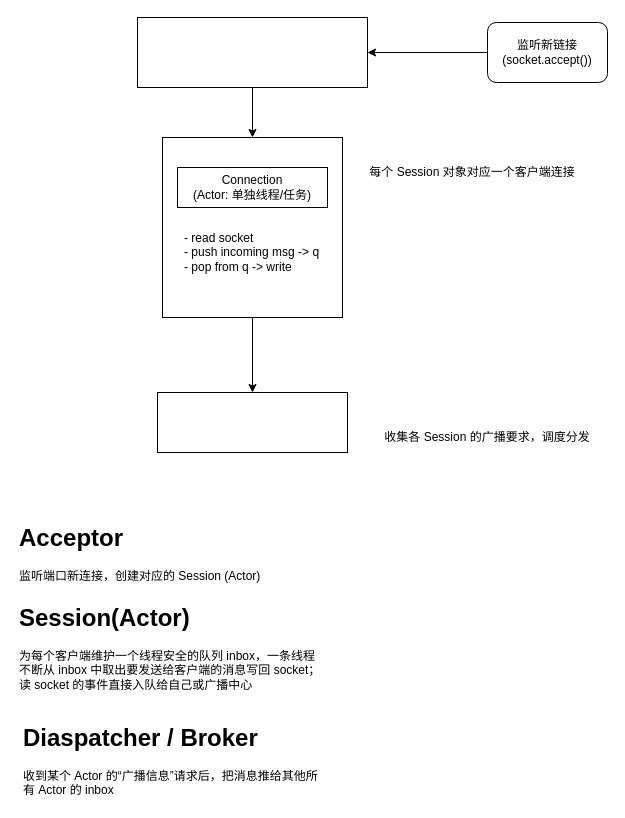
Image size: 625x818. Some labels were removed from this diagram. Each missing label, with the centre of its shape:
Acceptor Thread: the point at 252,52
Message Dispatcher: the point at 252,422
